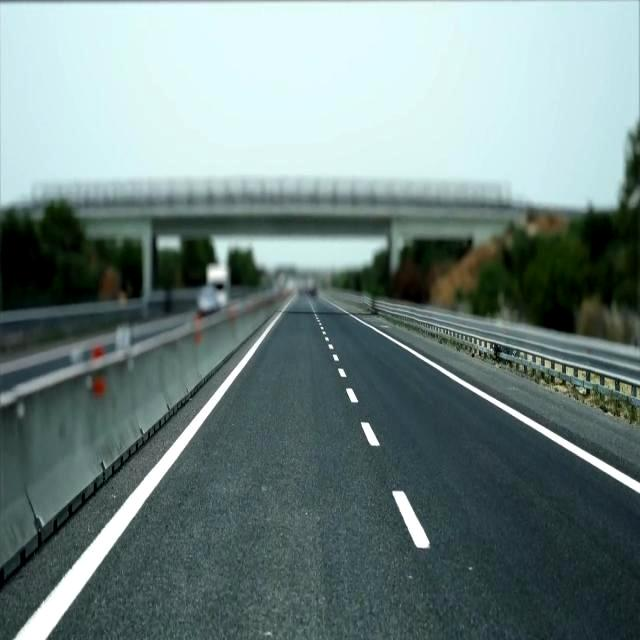lane: (12, 296, 294, 639), (330, 303, 640, 494), (393, 490, 430, 548), (362, 421, 380, 446), (347, 388, 359, 403)
road: (48, 296, 639, 639), (0, 335, 256, 639)
